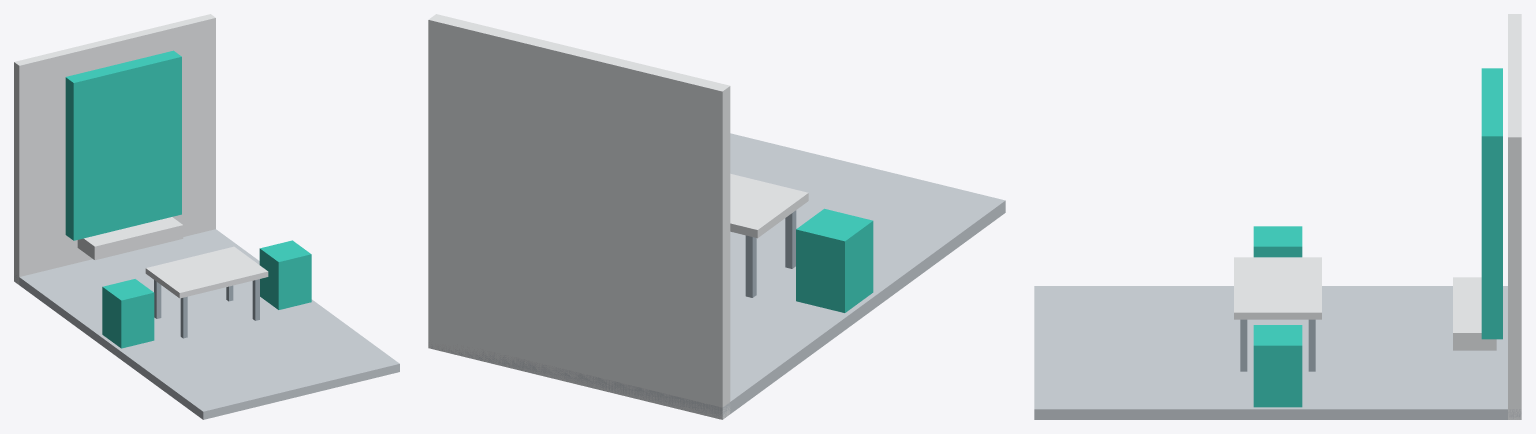
3 renders of one model, left to right at view 1: azimuth 30°, elevation 25°; view 2: azimuth 150°, elevation 25°; view 3: azimuth 270°, elevation 25°, orthographic. The views are drawn at different scales.
Parts seen in each view (by area): view 1: Exhibition Booth Concept; view 2: Exhibition Booth Concept; view 3: Exhibition Booth Concept.
Boxes of the visible parts, bbox=[...] form: Exhibition Booth Concept: bbox=[14, 14, 399, 419]; Exhibition Booth Concept: bbox=[428, 14, 1005, 419]; Exhibition Booth Concept: bbox=[1034, 14, 1521, 419].
Size of the model in its own units: 3 by 3.2 by 5.
